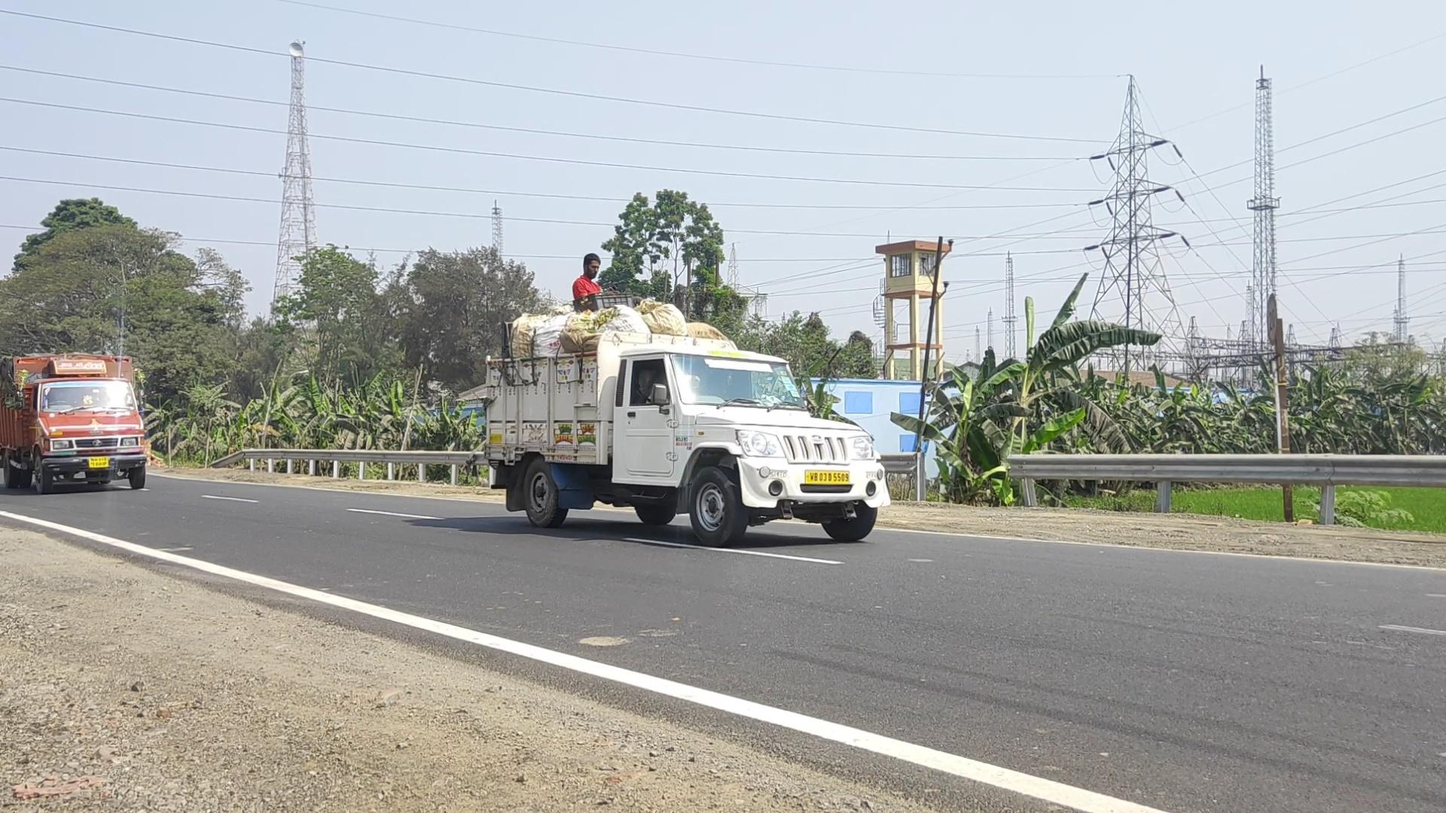truck: (1, 352, 149, 495)
van: (483, 253, 892, 549)
